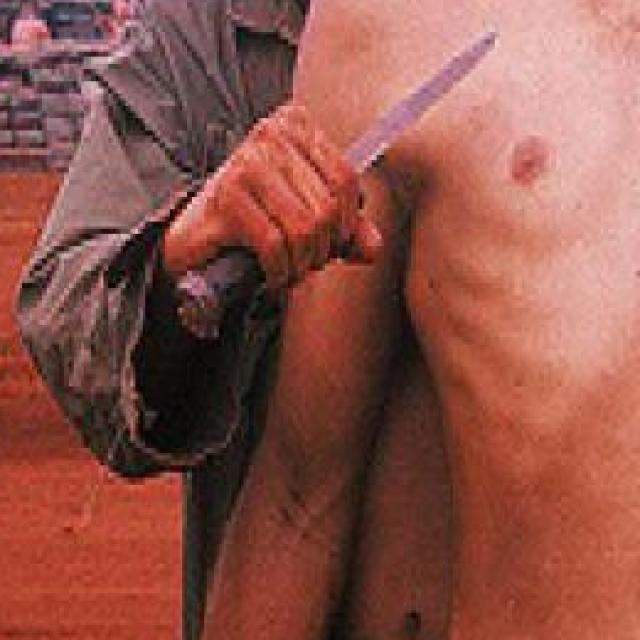knife: (172, 0, 517, 335)
